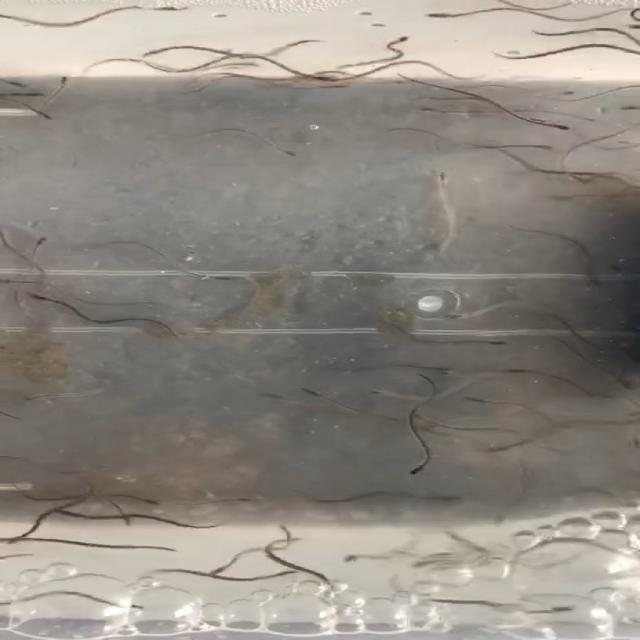active_glass_eel: (284, 566, 348, 606), (534, 115, 604, 144), (242, 139, 316, 166), (287, 70, 350, 101), (374, 448, 426, 479), (125, 488, 168, 523), (456, 392, 509, 417), (12, 230, 69, 252), (529, 591, 577, 617), (399, 100, 454, 122), (574, 274, 632, 294), (475, 441, 522, 465), (423, 161, 468, 185), (424, 301, 470, 323), (132, 38, 182, 58), (37, 64, 82, 86), (378, 26, 419, 50), (560, 383, 606, 403), (190, 266, 224, 292), (294, 381, 326, 404), (418, 10, 458, 28), (442, 486, 472, 510), (26, 104, 60, 125), (479, 336, 513, 357), (23, 288, 58, 308), (231, 485, 263, 506), (527, 138, 566, 155), (140, 2, 178, 18), (364, 381, 396, 400), (256, 388, 290, 404), (330, 554, 362, 566), (2, 270, 20, 291)
